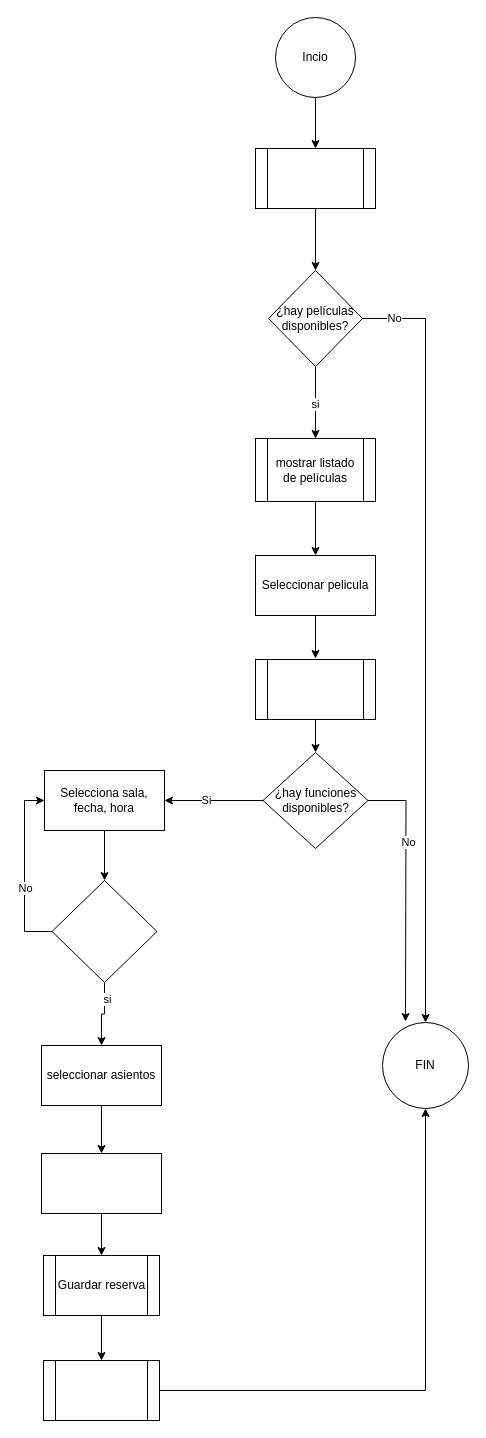
The diagram is 486 pixels wide and 1438 high, and some of its shapes have lost their labels. The shapes that lost their labels are listed below. From the top down, each one's centre as x and y in pixels, then its label:
(315,178): consultar listado de películas
(315,689): consultar listado de funciones por id de peliculas
(104,931): ¿hay asientos disponibles?
(101,1183): confirmar reserva
(101,1390): mostrar reserva
